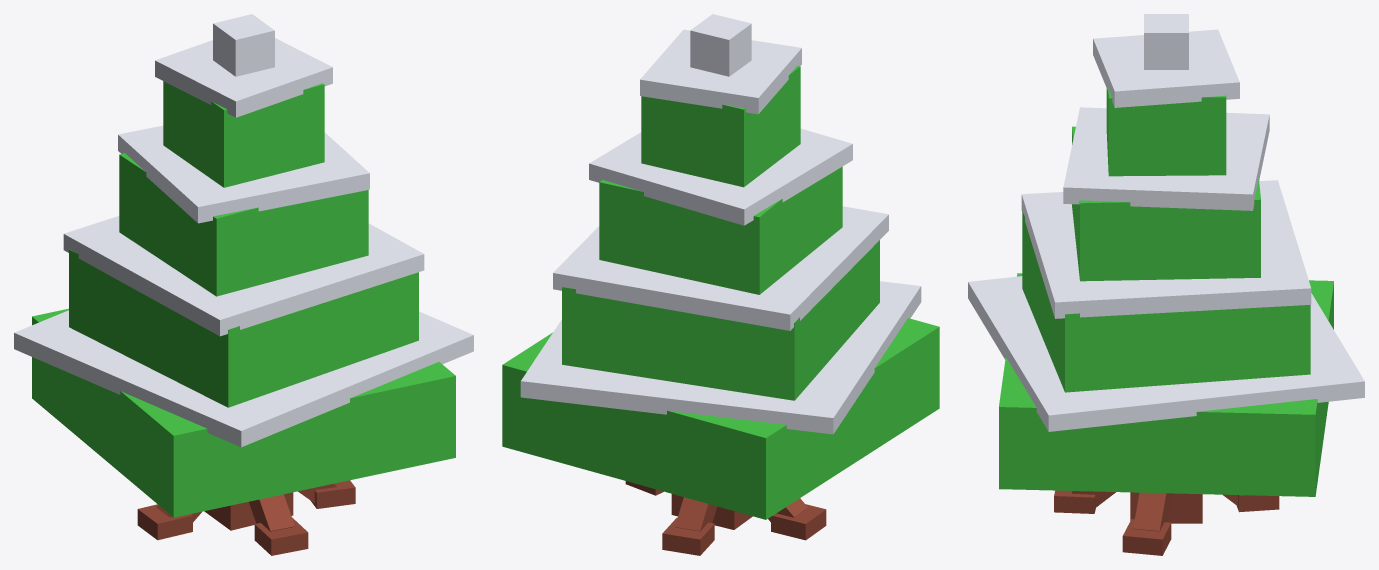
File: SnowPine.fbx
3 renders of one model, left to right at view 1: azimuth 30°, elevation 25°; view 2: azimuth 150°, elevation 25°; view 3: azimuth 270°, elevation 25°, orthographic.
Visible parts, largest first — view 1: LeafGreen.007, Snow.002, Bark.002; view 2: LeafGreen.007, Snow.002, Bark.002; view 3: LeafGreen.007, Snow.002, Bark.002.
Part boxes in pixels (x1=…): LeafGreen.007: x1=32, y1=81, x2=455, y2=517; Snow.002: x1=14, y1=14, x2=473, y2=447; Bark.002: x1=137, y1=480, x2=355, y2=555; LeafGreen.007: x1=502, y1=65, x2=939, y2=519; Snow.002: x1=520, y1=14, x2=921, y2=434; Bark.002: x1=625, y1=481, x2=826, y2=555; LeafGreen.007: x1=999, y1=88, x2=1333, y2=496; Snow.002: x1=968, y1=14, x2=1364, y2=431; Bark.002: x1=1054, y1=490, x2=1279, y2=555.
Size of the model in its own units: 8.76 by 11.83 by 8.76.
